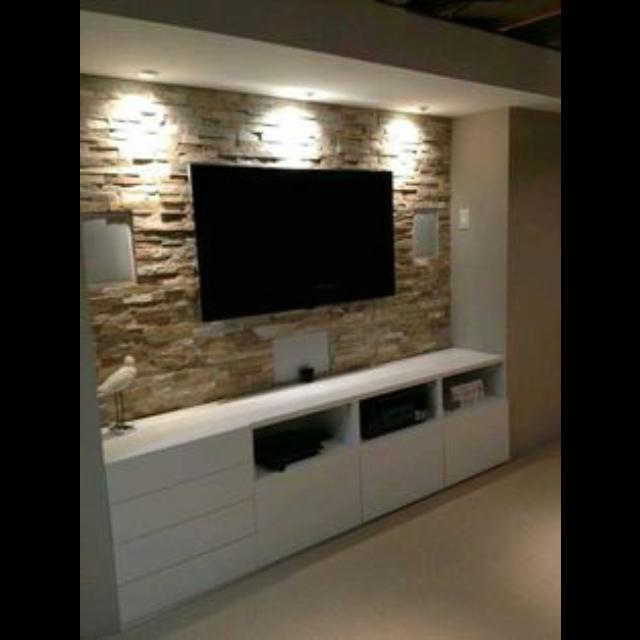Flat-Panel-TV: (191, 163, 397, 326)
